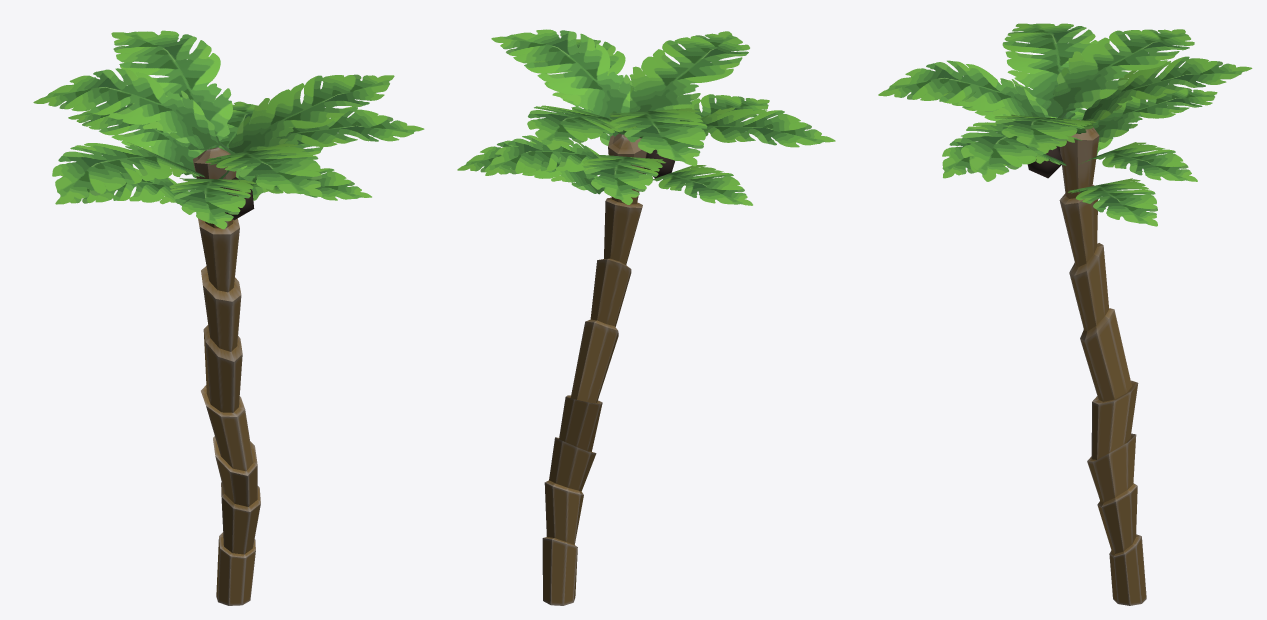
Rendered from palm tree 3.fbx.
The picture shows the model from 3 angles, left to right: view 1: azimuth 30°, elevation 25°; view 2: azimuth 150°, elevation 25°; view 3: azimuth 270°, elevation 25°; orthographic projection. The views are drawn at different scales.
Visible parts, largest first — view 1: Cylinder.001, Plane.005, Plane, Plane.001, Plane.003, Plane.002, Plane.004, Plane.008, Plane.011, Plane.009, Plane.010, Plane.006; view 2: Cylinder.001, Plane.001, Plane.002, Plane.005, Plane.003, Plane.006, Plane, Plane.011, Plane.009, Plane.007, Plane.008, Plane.004; view 3: Cylinder.001, Plane.005, Plane.002, Plane.003, Plane, Plane.004, Plane.011, Plane.007, Plane.006, Plane.001, Plane.010, Icosphere.
Boxes of the visible parts, x1,y1,x2,y2 form: Cylinder.001: [193, 147, 260, 605]; Plane.005: [33, 68, 235, 154]; Plane: [111, 30, 232, 150]; Plane.001: [219, 74, 394, 179]; Plane.003: [52, 142, 204, 204]; Plane.002: [205, 143, 322, 196]; Plane.004: [269, 106, 424, 156]; Plane.008: [169, 178, 255, 229]; Plane.011: [68, 103, 201, 175]; Plane.009: [55, 168, 190, 205]; Plane.010: [239, 168, 371, 200]; Plane.006: [192, 101, 266, 178]; Cylinder.001: [542, 133, 646, 605]; Plane.001: [491, 29, 634, 136]; Plane.002: [629, 31, 749, 126]; Plane.005: [609, 108, 707, 166]; Plane.003: [646, 107, 835, 152]; Plane.006: [485, 135, 606, 175]; Plane: [527, 105, 643, 150]; Plane.011: [582, 154, 665, 204]; Plane.009: [652, 165, 752, 205]; Plane.007: [457, 140, 604, 194]; Plane.008: [656, 94, 769, 153]; Plane.004: [527, 39, 635, 132]; Cylinder.001: [1059, 119, 1146, 605]; Plane.005: [1052, 29, 1194, 118]; Plane.002: [878, 60, 1049, 117]; Plane.003: [1002, 23, 1097, 119]; Plane: [1082, 56, 1252, 124]; Plane.004: [961, 118, 1081, 181]; Plane.011: [1092, 88, 1217, 142]; Plane.007: [1068, 178, 1157, 226]; Plane.006: [1078, 142, 1197, 181]; Plane.001: [994, 114, 1096, 152]; Plane.010: [942, 135, 1066, 178]; Icosphere: [1027, 146, 1062, 178].
Size of the model in its own units: 2472 by 3374 by 2258.
2 materials, 2 textured.
